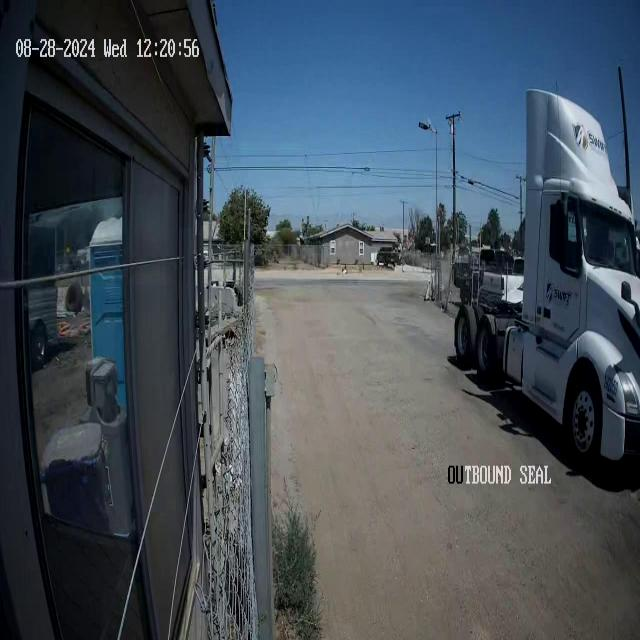BOBTAIL: (453, 75, 639, 471)
